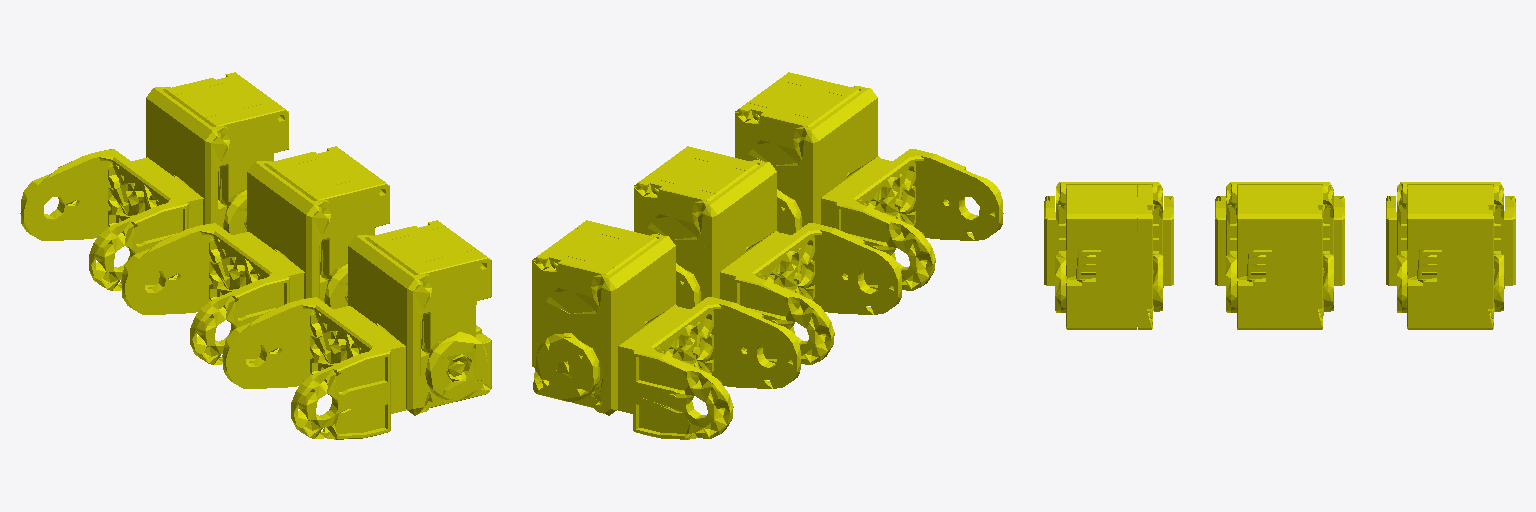
URDF robot description (onshape):
<robot name="onshape">






<link name="palm_lower">
<visual>
<origin xyz="-0.020095249652862544332 0.025757756134899473244 -0.034722403578460216134" rpy="0 -0 0" />
<geometry>
<mesh filename="palm_lower.stl"/>
</geometry>
<material name="palm_lower_material">
<color rgba="0.60392156862745094426 0.14901960784313725283 0.14901960784313725283 1.0"/>
</material>
</visual>
<collision>
<origin xyz="-0.020095249652862544332 0.025757756134899473244 -0.034722403578460216134" rpy="0 -0 0" />
<geometry>
<mesh filename="palm_lower.stl"/>
</geometry>
</collision>
<inertial>
<origin xyz="0 0 0" rpy="0 0 0"/>
<mass value="0.237" />
<inertia ixx="0.000354094" ixy="-0.000001193"  ixz="-0.000002445" iyy="0.000260915" iyz="-0.000002905" izz="0.000529257" />
</inertial>
</link>

















<link name="mcp_joint">
<visual>
<origin xyz="0.0084069022611744960438 0.0077662438597169954416 0.014657354985032912051" rpy="1.6375789613220999807e-15 -1.0210473302491019535e-30 1.7177968783327987474e-31" />
<geometry>
<mesh filename="mcp_joint.stl"/>
</geometry>
<material name="mcp_joint_material">
<color rgba="0.86666666666666669627 0.86666666666666669627 0.050980392156862744391 1.0"/>
</material>
</visual>
<collision>
<origin xyz="0.0084069022611744960438 0.0077662438597169954416 0.014657354985032912051" rpy="1.6375789613220999807e-15 -1.0210473302491019535e-30 1.7177968783327987474e-31" />
<geometry>
<mesh filename="mcp_joint.stl"/>
</geometry>
</collision>
<inertial>
<origin xyz="0 0 0" rpy="0 0 0"/>
<mass value="0.044" />
<inertia ixx="0.000011499" ixy="0.000003049"  ixz="0.000000121" iyy="0.000007796" iyz="0.000000112" izz="0.000014759" />
</inertial>
</link>
















<link name="pip">
<visual>
<origin xyz="0.0096433630922713280131 0.00029999999999998951117 0.00078403401041737645627" rpy="-1.570796326794896558 -1.570796326794896336 0" />
<geometry>
<mesh filename="pip.stl"/>
</geometry>
<material name="pip_material">
<color rgba="0.74901960784313725839 0.74901960784313725839 0.74901960784313725839 1.0"/>
</material>
</visual>
<collision>
<origin xyz="0.0096433630922713280131 0.00029999999999998951117 0.00078403401041737645627" rpy="-1.570796326794896558 -1.570796326794896336 0" />
<geometry>
<mesh filename="pip.stl"/>
</geometry>
</collision>
<inertial>
<origin xyz="0 0 0" rpy="0 0 0"/>
<mass value="0.032" />
<inertia ixx="0.000004798" ixy="0.000000012"  ixz="0.000000004" iyy="0.000002862" iyz="0.000000011" izz="0.000004234" />
</inertial>
</link>


















<link name="dip">
<visual>
<origin xyz="0.021133352895225002849 -0.0084321191467048792201 0.0097850881620952408213" rpy="-3.141592653589793116 4.5075111242164408299e-32 4.4395481053923607589e-32" />
<geometry>
<mesh filename="dip.stl"/>
</geometry>
<material name="dip_material">
<color rgba="0.86666666666666669627 0.86666666666666669627 0.050980392156862744391 1.0"/>
</material>
</visual>
<collision>
<origin xyz="0.021133352895225002849 -0.0084321191467048792201 0.0097850881620952408213" rpy="-3.141592653589793116 4.5075111242164408299e-32 4.4395481053923607589e-32" />
<geometry>
<mesh filename="dip.stl"/>
</geometry>
</collision>
<inertial>
<origin xyz="0 0 0" rpy="0 0 0"/>
<mass value="0.037" />
<inertia ixx="0.000005542" ixy="-0.000000607"  ixz="-0.000000017" iyy="0.000005727" iyz="-0.000000023" izz="0.000006682" />
</inertial>
</link>
















<link name="fingertip">
<visual>
<origin xyz="0.013286424108533503169 -0.0061142383865419869249 0.014499999999999497666" rpy="3.141592653589793116 1.1993117970061734707e-33 4.4395481053923607589e-32" />
<geometry>
<mesh filename="fingertip.stl"/>
</geometry>
<material name="fingertip_material">
<color rgba="0.86666666666666669627 0.86666666666666669627 0.050980392156862744391 1.0"/>
</material>
</visual>
<collision>
<origin xyz="0.013286424108533503169 -0.0061142383865419869249 0.014499999999999497666" rpy="3.141592653589793116 1.1993117970061734707e-33 4.4395481053923607589e-32" />
<geometry>
<mesh filename="fingertip.stl"/>
</geometry>
</collision>
<inertial>
<origin xyz="0 0 0" rpy="0 0 0"/>
<mass value="0.016" />
<inertia ixx="0.000003368" ixy="0.000000115"  ixz="0" iyy="0.000001556" iyz="0" izz="0.000002863" />
</inertial>
</link>




















<joint name="0" type="revolute">
<origin xyz="-0.012200000000000007713 0.038099999999999994982 0.014500000000000000736" rpy="-1.570796326794896558 -1.0065212660796336576e-15 1.5707963267948943376" />
<parent link="mcp_joint" />
<child link="pip" />
<axis xyz="0 0 -1"/>
<limit effort="0.95" velocity="8.48" lower = "-1.047" upper = "1.047"/>
<joint_properties friction="0.0"/>
</joint>

   <joint name="1" type="revolute">
   <origin xyz="-0.0070952496528625457958 0.023057756134899472233 -0.01872240357846021927" rpy="1.5707963267948950037 1.5707963267948945596 0" />
<parent link="palm_lower" />
<child link="mcp_joint" />
<axis xyz="0 0 -1"/>
<limit effort="0.95" velocity="8.48" lower = "-0.314" upper = "2.23"/>
<joint_properties friction="0.0"/>
</joint>











<joint name="2" type="revolute">
<origin xyz="0.01499999999999996822 0.014299999999999904801 -0.012999999999999824196" rpy="1.5707963267948958919 -1.570796326794896336 0" />
<parent link="pip" />
<child link="dip" />
<axis xyz="0 0 -1"/>
<limit effort="0.95" velocity="8.48" lower = "-0.506" upper = "1.885"/>  
<joint_properties friction="0.0"/>
</joint>












<joint name="3" type="revolute">
<origin xyz="-4.0880582495572692636e-09 -0.036100004210367367397 0.00020000000000007858714" rpy="4.5935029425113685044e-17 -2.8730071914463794583e-16 4.4395481053923607589e-32" />
<parent link="dip" />
<child link="fingertip" />
<axis xyz="0 0 -1"/>
<limit effort="0.95" velocity="8.48" lower = "-0.366" upper = "2.042"/>   
<joint_properties friction="0.0"/>
</joint>











<link name="mcp_joint_2">
<visual>
<origin xyz="0.0084069022611744960438 0.0077662438597169954416 0.014657354985032913786" rpy="1.6375789613220999807e-15 -1.0076465469034000467e-30 2.1209300131419907151e-61" />
<geometry>
<mesh filename="mcp_joint.stl"/>
</geometry>
<material name="mcp_joint_material">
<color rgba="0.86666666666666669627 0.86666666666666669627 0.050980392156862744391 1.0"/>
</material>
</visual>
<collision>
<origin xyz="0.0084069022611744960438 0.0077662438597169954416 0.014657354985032913786" rpy="1.6375789613220999807e-15 -1.0076465469034000467e-30 2.1209300131419907151e-61" />
<geometry>
<mesh filename="mcp_joint.stl"/>
</geometry>
</collision>
<inertial>
<origin xyz="0 0 0" rpy="0 0 0"/>
<mass value="0.044" />
<inertia ixx="0.000011499" ixy="0.000003049"  ixz="0.000000121" iyy="0.000007796" iyz="0.000000112" izz="0.000014759" />
</inertial>
</link>














<link name="pip_2">
<visual>
<origin xyz="0.0096433630922713280131 0.00029999999999999471534 0.00078403401041737645627" rpy="-1.570796326794896558 -1.570796326794896336 0" />
<geometry>
<mesh filename="pip.stl"/>
</geometry>
<material name="pip_material">
<color rgba="0.74901960784313725839 0.74901960784313725839 0.74901960784313725839 1.0"/>
</material>
</visual>
<collision>
<origin xyz="0.0096433630922713280131 0.00029999999999999471534 0.00078403401041737645627" rpy="-1.570796326794896558 -1.570796326794896336 0" />
<geometry>
<mesh filename="pip.stl"/>
</geometry>
</collision>
<inertial>
<origin xyz="0 0 0" rpy="0 0 0"/>
<mass value="0.032" />
<inertia ixx="0.000004798" ixy="0.000000012"  ixz="0.000000004" iyy="0.000002862" iyz="0.000000011" izz="0.000004234" />
</inertial>
</link>






















<link name="dip_2">
<visual>
<origin xyz="0.021133352895225002849 -0.0084321191467048653423 0.0097850881620952373519" rpy="-3.141592653589793116 2.1146933785271955805e-32 1.4408183216511868558e-31" />
<geometry>
<mesh filename="dip.stl"/>
</geometry>
<material name="dip_material">
<color rgba="0.86666666666666669627 0.86666666666666669627 0.050980392156862744391 1.0"/>
</material>
</visual>
<collision>
<origin xyz="0.021133352895225002849 -0.0084321191467048653423 0.0097850881620952373519" rpy="-3.141592653589793116 2.1146933785271955805e-32 1.4408183216511868558e-31" />
<geometry>
<mesh filename="dip.stl"/>
</geometry>
</collision>
<inertial>
<origin xyz="0 0 0" rpy="0 0 0"/>
<mass value="0.037" />
<inertia ixx="0.000005542" ixy="-0.000000607"  ixz="-0.000000017" iyy="0.000005727" iyz="-0.000000023" izz="0.000006682" />
</inertial>
</link>























<link name="fingertip_2">
<visual>
<origin xyz="0.01328642410853349623 -0.0061142383865420008027 0.014499999999999495931" rpy="3.141592653589793116 -4.3179597882835943107e-33 1.4408183216511868558e-31" />
<geometry>
<mesh filename="fingertip.stl"/>
</geometry>
<material name="fingertip_material">
<color rgba="0.86666666666666669627 0.86666666666666669627 0.050980392156862744391 1.0"/>
</material>
</visual>
<collision>
<origin xyz="0.01328642410853349623 -0.0061142383865420008027 0.014499999999999495931" rpy="3.141592653589793116 -4.3179597882835943107e-33 1.4408183216511868558e-31" />
<geometry>
<mesh filename="fingertip.stl"/>
</geometry>
</collision>
<inertial>
<origin xyz="0 0 0" rpy="0 0 0"/>
<mass value="0.016" />
<inertia ixx="0.000003368" ixy="0.000000115"  ixz="0" iyy="0.000001556" iyz="0" izz="0.000002863" />
</inertial>
</link>












<joint name="4" type="revolute">
<origin xyz="-0.012200000000000019856 0.038099999999999981104 0.01450000000000000594" rpy="-1.570796326794896558 -1.0065212760057939085e-15 1.5707963267948943376" />
<parent link="mcp_joint_2" />
<child link="pip_2" />
<axis xyz="0 0 -1"/>
<limit effort="0.95" velocity="8.48" lower = "-1.047" upper = "1.047"/>
<joint_properties friction="0.0"/>
</joint>










<joint name="5" type="revolute">
<origin xyz="-0.0070952496528625388569 -0.022392243865100525113 -0.018722403578460229678" rpy="1.570796326794896558 1.570796326794896558 0" />
<parent link="palm_lower" />
<child link="mcp_joint_2" />
<axis xyz="0 0 -1"/>
<limit effort="0.95" velocity="8.48" lower = "-0.314" upper = "2.23"/>
<joint_properties friction="0.0"/>
</joint>











<joint name="6" type="revolute">
<origin xyz="0.014999999999999975159 0.014300000000000000211 -0.013000000000000018485" rpy="1.5707963267948958919 -1.570796326794896336 0" />
<parent link="pip_2" />
<child link="dip_2" />
<axis xyz="0 0 -1"/>
<limit effort="0.95" velocity="8.48" lower = "-0.506" upper = "1.885"/>  
<joint_properties friction="0.0"/>
</joint>












<joint name="7" type="revolute">
<origin xyz="1.0061396160665481148e-16 -0.036099999999999854428 0.00020000000000007858714" rpy="4.5935029425113654229e-17 -2.8730071914463794583e-16 1.4408183216511868558e-31" />
<parent link="dip_2" />
<child link="fingertip_2" />
<axis xyz="0 0 -1"/>
<limit effort="0.95" velocity="8.48" lower = "-0.366" upper = "2.042"/>   
<joint_properties friction="0.0"/>
</joint>














<link name="mcp_joint_3">
<visual>
<origin xyz="0.0084069022611744995133 0.0077662438597169963089 0.014657354985032913786" rpy="1.6375789613220999807e-15 -1.0059504988632626953e-30 5.729641584552035421e-32" />
<geometry>
<mesh filename="mcp_joint.stl"/>
</geometry>
<material name="mcp_joint_material">
<color rgba="0.86666666666666669627 0.86666666666666669627 0.050980392156862744391 1.0"/>
</material>
</visual>
<collision>
<origin xyz="0.0084069022611744995133 0.0077662438597169963089 0.014657354985032913786" rpy="1.6375789613220999807e-15 -1.0059504988632626953e-30 5.729641584552035421e-32" />
<geometry>
<mesh filename="mcp_joint.stl"/>
</geometry>
</collision>
<inertial>
<origin xyz="0 0 0" rpy="0 0 0"/>
<mass value="0.044" />
<inertia ixx="0.000011499" ixy="0.000003049"  ixz="0.000000121" iyy="0.000007796" iyz="0.000000112" izz="0.000014759" />
</inertial>
</link>
















<link name="pip_3">
<visual>
<origin xyz="0.0096433630922713314826 0.00029999999999998083755 0.00078403401041737645627" rpy="-1.570796326794896558 -1.570796326794896336 0" />
<geometry>
<mesh filename="pip.stl"/>
</geometry>
<material name="pip_material">
<color rgba="0.74901960784313725839 0.74901960784313725839 0.74901960784313725839 1.0"/>
</material>
</visual>
<collision>
<origin xyz="0.0096433630922713314826 0.00029999999999998083755 0.00078403401041737645627" rpy="-1.570796326794896558 -1.570796326794896336 0" />
<geometry>
<mesh filename="pip.stl"/>
</geometry>
</collision>
<inertial>
<origin xyz="0 0 0" rpy="0 0 0"/>
<mass value="0.032" />
<inertia ixx="0.000004798" ixy="0.000000012"  ixz="0.000000004" iyy="0.000002862" iyz="0.000000011" izz="0.000004234" />
</inertial>
</link>














<link name="dip_3">
<visual>
<origin xyz="0.021133352895225006318 -0.0084321191467048653423 0.0097850881620952373519" rpy="-3.141592653589793116 -1.4095651113919093005e-33 1.5565411607615035382e-32" />
<geometry>
<mesh filename="dip.stl"/>
</geometry>
<material name="dip_material">
<color rgba="0.86666666666666669627 0.86666666666666669627 0.050980392156862744391 1.0"/>
</material>
</visual>
<collision>
<origin xyz="0.021133352895225006318 -0.0084321191467048653423 0.0097850881620952373519" rpy="-3.141592653589793116 -1.4095651113919093005e-33 1.5565411607615035382e-32" />
<geometry>
<mesh filename="dip.stl"/>
</geometry>
</collision>
<inertial>
<origin xyz="0 0 0" rpy="0 0 0"/>
<mass value="0.037" />
<inertia ixx="0.000005542" ixy="-0.000000607"  ixz="-0.000000017" iyy="0.000005727" iyz="-0.000000023" izz="0.000006682" />
</inertial>
</link>













<link name="fingertip_3">
<visual>
<origin xyz="0.013286424108533501434 -0.0061142383865419869249 0.0144999999999994994" rpy="3.141592653589793116 8.6170716950575402125e-33 1.5565411607615035382e-32" />
<geometry>
<mesh filename="fingertip.stl"/>
</geometry>
<material name="fingertip_material">
<color rgba="0.86666666666666669627 0.86666666666666669627 0.050980392156862744391 1.0"/>
</material>
</visual>
<collision>
<origin xyz="0.013286424108533501434 -0.0061142383865419869249 0.0144999999999994994" rpy="3.141592653589793116 8.6170716950575402125e-33 1.5565411607615035382e-32" />
<geometry>
<mesh filename="fingertip.stl"/>
</geometry>
</collision>
<inertial>
<origin xyz="0 0 0" rpy="0 0 0"/>
<mass value="0.016" />
<inertia ixx="0.000003368" ixy="0.000000115"  ixz="0" iyy="0.000001556" iyz="0" izz="0.000002863" />
</inertial>
</link>
















<joint name="8" type="revolute">
<origin xyz="-0.012200000000000004244 0.038100000000000001921 0.014499999999999999001" rpy="-1.570796326794896558 -1.0065212660796360242e-15 1.5707963267948943376" />
<parent link="mcp_joint_3" />
<child link="pip_3" />
<axis xyz="0 0 -1"/>
<limit effort="0.95" velocity="8.48" lower = "-1.047" upper = "1.047"/>
<joint_properties friction="0.0"/>
</joint>















<joint name="9" type="revolute">
<origin xyz="-0.0070952454426398371343 -0.067842243865100515521 -0.018722407666402932774" rpy="1.5707963267948950037 1.5707963267948945596 0" />
<parent link="palm_lower" />
<child link="mcp_joint_3" />
<axis xyz="0 0 -1"/>
<limit effort="0.95" velocity="8.48" lower = "-0.314" upper = "2.23"/>
<joint_properties friction="0.0"/>
</joint>












<joint name="10" type="revolute">
<origin xyz="0.014999999999999971689 0.014299999999999951639 -0.012999999999999959505" rpy="1.5707963267948958919 -1.570796326794896336 0" />
<parent link="pip_3" />
<child link="dip_3" />
<axis xyz="0 0 -1"/>
<limit effort="0.95" velocity="8.48" lower = "-0.506" upper = "1.885"/>  
<joint_properties friction="0.0"/>
</joint>















<joint name="11" type="revolute">
<origin xyz="9.7144514654701197287e-17 -0.036099999999999868305 0.00020000000000007511769" rpy="4.5935029425113685044e-17 -2.8730071914463799514e-16 1.5565411607615035382e-32" />
<parent link="dip_3" />
<child link="fingertip_3" />
<axis xyz="0 0 -1"/>
<limit effort="0.95" velocity="8.48" lower = "-0.366" upper = "2.042"/>   
<joint_properties friction="0.0"/>
</joint>











<link name="pip_4">
<visual>
<origin xyz="-0.0053566369077286714317 0.00029999999999999991951 0.00078403401041737819099" rpy="-1.570796326794896558 -1.570796326794896336 0" />
<geometry>
<mesh filename="pip.stl"/>
</geometry>
<material name="pip_material">
<color rgba="0.74901960784313725839 0.74901960784313725839 0.74901960784313725839 1.0"/>
</material>
</visual>
<collision>
<origin xyz="-0.0053566369077286714317 0.00029999999999999991951 0.00078403401041737819099" rpy="-1.570796326794896558 -1.570796326794896336 0" />
<geometry>
<mesh filename="pip.stl"/>
</geometry>
</collision>
<inertial>
<origin xyz="0 0 0" rpy="0 0 0"/>
<mass value="0.032" />
<inertia ixx="0.000004798" ixy="0.000000012"  ixz="0.000000004" iyy="0.000002862" iyz="0.000000011" izz="0.000004234" />
</inertial>
</link>
















<link name="thumb_pip">
<visual>
<origin xyz="0.011961920770611186859 -5.3082538364890297089e-16 -0.015852648956664199681" rpy="1.570796326794896558 1.6050198443300152637e-46 -3.9204996250525192755e-59" />
<geometry>
<mesh filename="thumb_pip.stl"/>
</geometry>
<material name="thumb_pip_material">
<color rgba="0.86666666666666669627 0.86666666666666669627 0.050980392156862744391 1.0"/>
</material>
</visual>
<collision>
<origin xyz="0.011961920770611186859 -5.3082538364890297089e-16 -0.015852648956664199681" rpy="1.570796326794896558 1.6050198443300152637e-46 -3.9204996250525192755e-59" />
<geometry>
<mesh filename="thumb_pip.stl"/>
</geometry>
</collision>
<inertial>
<origin xyz="0 0 0" rpy="0 0 0"/>
<mass value="0.003" />
<inertia ixx="0.000000593" ixy="0"  ixz="0" iyy="0.000000549" iyz="0" izz="0.000000224" />
</inertial>
</link>















<link name="thumb_dip">
<visual>
<origin xyz="0.043968715707239175439 0.057952952973709198625 -0.0086286764493694757122" rpy="1.9428902930940098942e-16 3.2751579226442200773e-15 1.1123758529657360012e-46" />
<geometry>
<mesh filename="thumb_dip.stl"/>
</geometry>
<material name="thumb_dip_material">
<color rgba="0.86666666666666669627 0.86666666666666669627 0.050980392156862744391 1.0"/>
</material>
</visual>
<collision>
<origin xyz="0.043968715707239175439 0.057952952973709198625 -0.0086286764493694757122" rpy="1.9428902930940098942e-16 3.2751579226442200773e-15 1.1123758529657360012e-46" />
<geometry>
<mesh filename="thumb_dip.stl"/>
</geometry>
</collision>
<inertial>
<origin xyz="0 0 0" rpy="0 0 0"/>
<mass value="0.038" />
<inertia ixx="0.000008474" ixy="0.000000241"  ixz="0.000000026" iyy="0.000003841" iyz="0.000000025" izz="0.000007679" />
</inertial>
</link>














<link name="thumb_fingertip">
<visual>
<origin xyz="0.062559538462667388381 0.078459682911396988469 0.048992911807332215068" rpy="4.3790577010156367543e-47 -3.3306690738754701143e-16 1.2042408677791935383e-46" />
<geometry>
<mesh filename="thumb_fingertip.stl"/>
</geometry>
<material name="thumb_fingertip_material">
<color rgba="0.60392156862745094426 0.14901960784313725283 0.14901960784313725283 1.0"/>
</material>
</visual>
<collision>
<origin xyz="0.062559538462667388381 0.078459682911396988469 0.048992911807332215068" rpy="4.3790577010156367543e-47 -3.3306690738754701143e-16 1.2042408677791935383e-46" />
<geometry>
<mesh filename="thumb_fingertip.stl"/>
</geometry>
</collision>
<inertial>
<origin xyz="0 0 0" rpy="0 0 0"/>
<mass value="0.049" />
<inertia ixx="0.000020372" ixy="-0.000000489"  ixz="-0.00000003" iyy="0.000004336" iyz="-0.000000097" izz="0.000019845" />
</inertial>
</link>














<joint name="12" type="revolute">
<origin xyz="-0.069395249652862533996 -0.0012422438651005258004 -0.021622403578460215601" rpy="-8.2381766464939424156e-17 1.5707963267948956698 0" />
<parent link="palm_lower" />
<child link="pip_4" />
<axis xyz="0 0 -1"/>
<limit effort="0.95" velocity="8.48" lower = "-0.349" upper = "2.094"/> 
<joint_properties friction="0.0"/>
</joint>












<joint name="13" type="revolute">
<origin xyz="-2.7755575615628913511e-17 0.014300000000000005415 -0.013000000000000011546" rpy="1.5707963267948958919 -1.570796326794896336 0" />
<parent link="pip_4" />
<child link="thumb_pip" />
<axis xyz="0 0 -1"/>
<limit effort="0.95" velocity="8.48" lower = "-0.47" upper = "2.443"/> 
<joint_properties friction="0.0"/>
</joint>












<joint name="14" type="revolute">
<origin xyz="0 0.014499999999999966041 -0.017000000000000053263" rpy="-1.570796326794896558 1.6050198443300131245e-46 -1.9721522630516624601e-31" />
<parent link="thumb_pip" />
<child link="thumb_dip" />
<axis xyz="0 0 -1"/>
<limit effort="0.95" velocity="8.48" lower = "-1.20" upper = "1.90"/> 
<joint_properties friction="0.0"/>
</joint>















<joint name="15" type="revolute">
<origin xyz="-1.249000902703301108e-16 0.046599999999999863753 0.00019999999999997710581" rpy="1.5063958491491781023e-44 5.4234187233935260503e-31 3.141592653589793116" />
<parent link="thumb_dip" />
<child link="thumb_fingertip" />
<axis xyz="0 0 -1"/>
<limit effort="0.95" velocity="8.48" lower = "-1.34" upper = "1.88"/> 
<joint_properties friction="0.0"/>
</joint>

</robot>

--- Facts derived from the render (not from the file) ---
The picture shows the robot from 3 angles, left to right: view 1: azimuth 30°, elevation 25°; view 2: azimuth 150°, elevation 25°; view 3: azimuth 270°, elevation 25°; orthographic projection.
Model onshape with 17 links and 16 joints (16 revolute), rooted at palm_lower, posed every joint at zero.
Links seen in each view (by area): view 1: dip_3, dip_2, dip; view 2: dip, dip_2, dip_3; view 3: dip_2, dip_3, dip.
Boxes of the visible links, left/top/right/bottom form: dip_3: left=223, top=220, right=491, bottom=439; dip_2: left=122, top=146, right=389, bottom=364; dip: left=20, top=72, right=288, bottom=290; dip: left=532, top=220, right=800, bottom=439; dip_2: left=634, top=146, right=901, bottom=364; dip_3: left=735, top=72, right=1003, bottom=290; dip_2: left=1215, top=182, right=1344, bottom=329; dip_3: left=1044, top=182, right=1173, bottom=329; dip: left=1386, top=182, right=1515, bottom=329.
Bounding box of the posed robot: 0.054 × 0.1255 × 0.0345 m (x, y, z).
3 mesh visuals loaded from 8 distinct referenced files (1 binary STL); not drawn: 14 (reference not matched to a file when rendering).